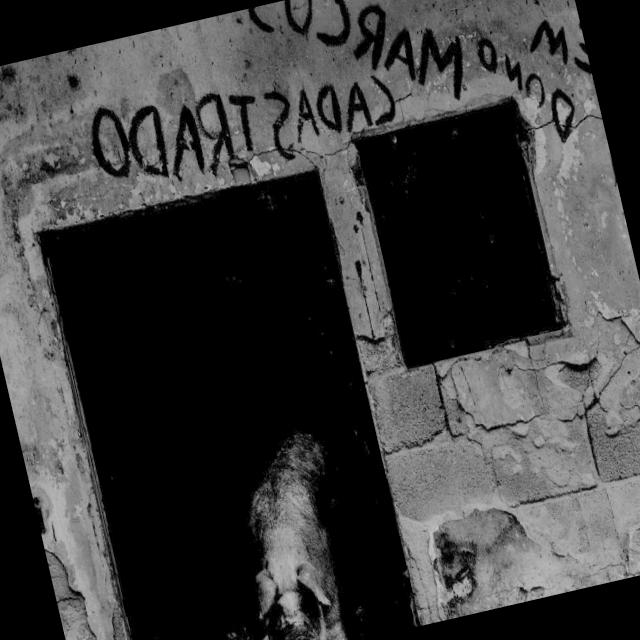pig: (250, 433, 346, 640)
